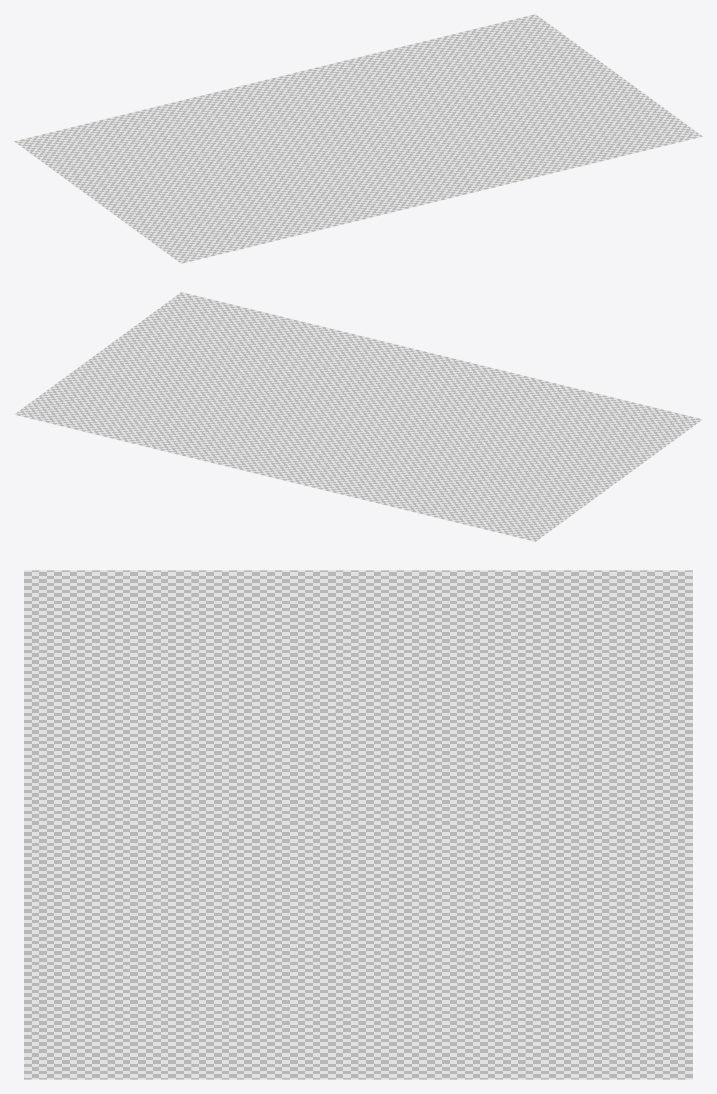
File: Building_Interior_Floor.fbx
The picture shows the model from 3 angles, top to bottom: view 1: azimuth 30°, elevation 25°; view 2: azimuth 150°, elevation 25°; view 3: azimuth 270°, elevation 25°; orthographic projection. The views are drawn at different scales.
Parts seen in each view (by area): view 1: Building Interior Floor; view 2: Building Interior Floor; view 3: Building Interior Floor.
Boxes of the visible parts, x1=… form: Building Interior Floor: x1=14, y1=14, x2=702, y2=263; Building Interior Floor: x1=14, y1=292, x2=702, y2=541; Building Interior Floor: x1=24, y1=570, x2=692, y2=1079.
Bounding box in the file's own units: 7122 × 0.000645 × 3957.
